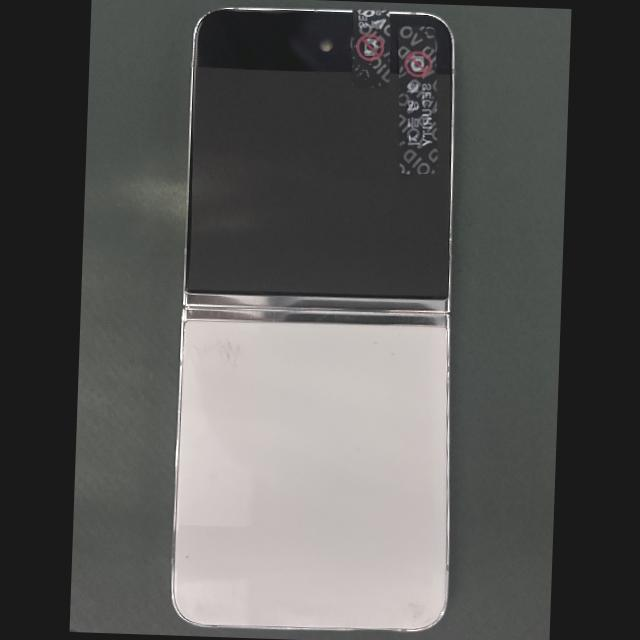phone: (172, 9, 452, 630)
sticker: (398, 25, 439, 174), (353, 9, 390, 89)
